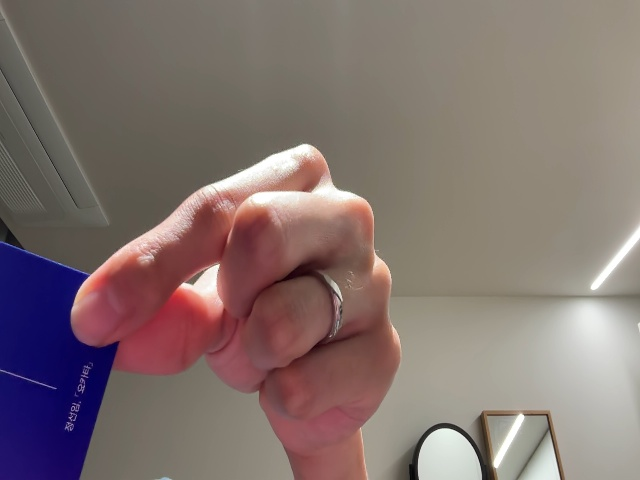card: (1, 240, 126, 480)
